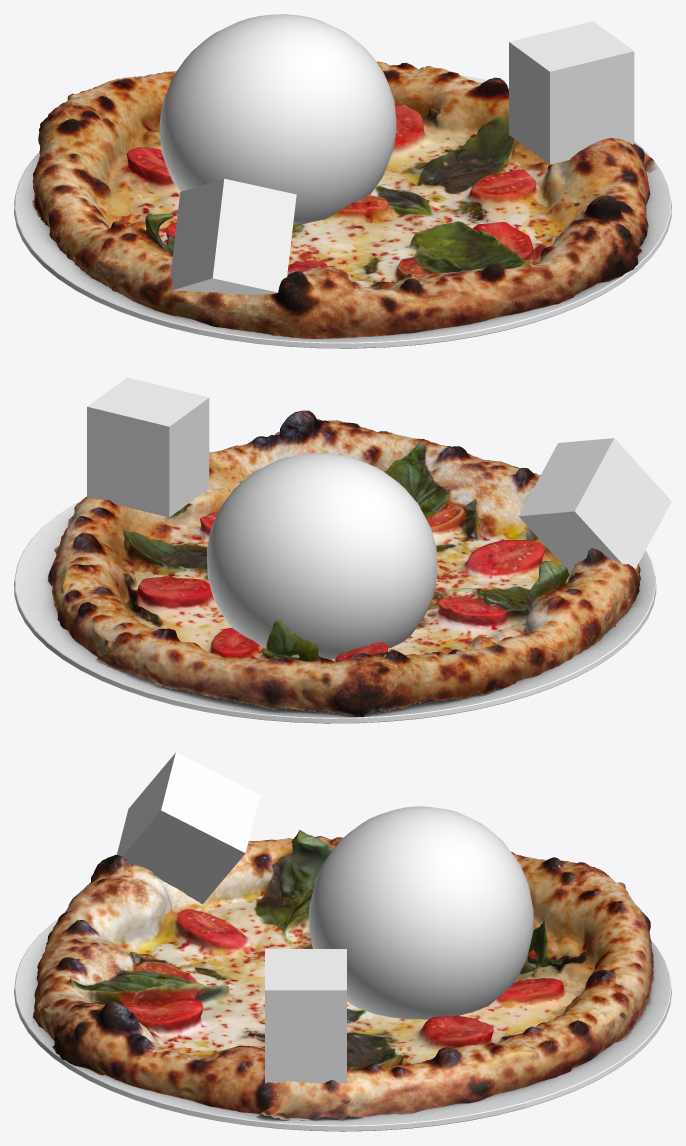
Rendered from Plato_05.glb.
3 renders of one model, top to bottom at view 1: azimuth 30°, elevation 25°; view 2: azimuth 150°, elevation 25°; view 3: azimuth 270°, elevation 25°, orthographic. The views are drawn at different scales.
Visible parts, largest first — view 1: PizzaBurrataOriDecimate, Sphere, Cube.001, PizzaBurrataFlatPlate, Cube; view 2: PizzaBurrataOriDecimate, Sphere, PizzaBurrataFlatPlate, Cube.001, Cube; view 3: PizzaBurrataOriDecimate, Sphere, PizzaBurrataFlatPlate, Cube, Cube.001.
Boxes of the visible parts, x1,y1,x2,y2 form: PizzaBurrataOriDecimate: [32, 61, 654, 338]; Sphere: [159, 14, 396, 223]; Cube.001: [509, 21, 634, 164]; PizzaBurrataFlatPlate: [14, 75, 671, 348]; Cube: [170, 178, 296, 294]; PizzaBurrataOriDecimate: [48, 410, 640, 716]; Sphere: [207, 453, 437, 658]; PizzaBurrataFlatPlate: [14, 500, 656, 723]; Cube.001: [87, 377, 209, 517]; Cube: [518, 438, 671, 573]; PizzaBurrataOriDecimate: [33, 830, 654, 1120]; Sphere: [308, 806, 533, 1019]; PizzaBurrataFlatPlate: [14, 919, 671, 1131]; Cube: [117, 752, 260, 904]; Cube.001: [265, 949, 346, 1083].
Bounding box in the file's own units: 0.26 × 0.088 × 0.26.
3 materials, 2 textured.
